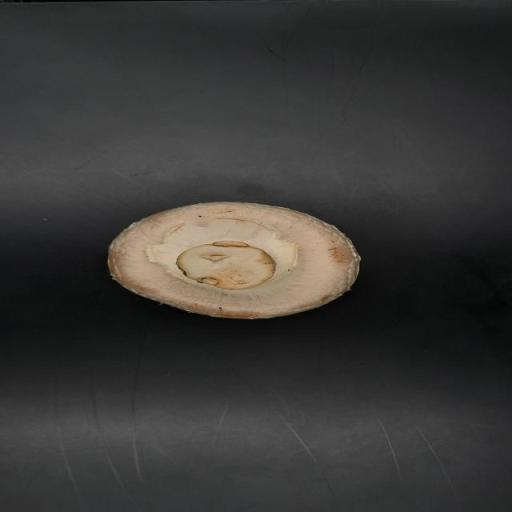mushroom: (104, 193, 364, 328)
